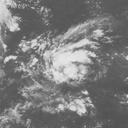cyclone: (39, 19, 108, 85)
